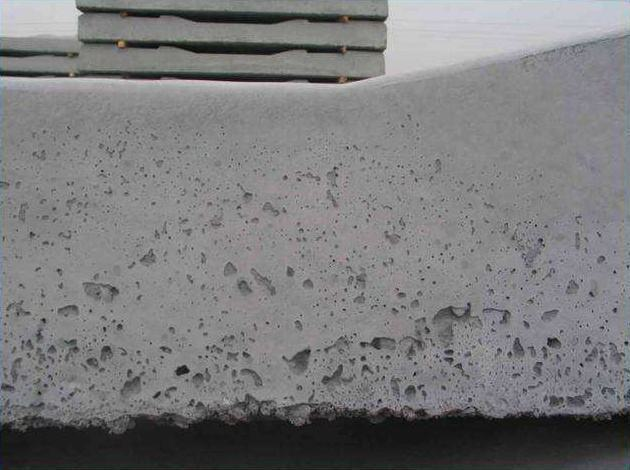Spalling: (1, 118, 630, 423)
